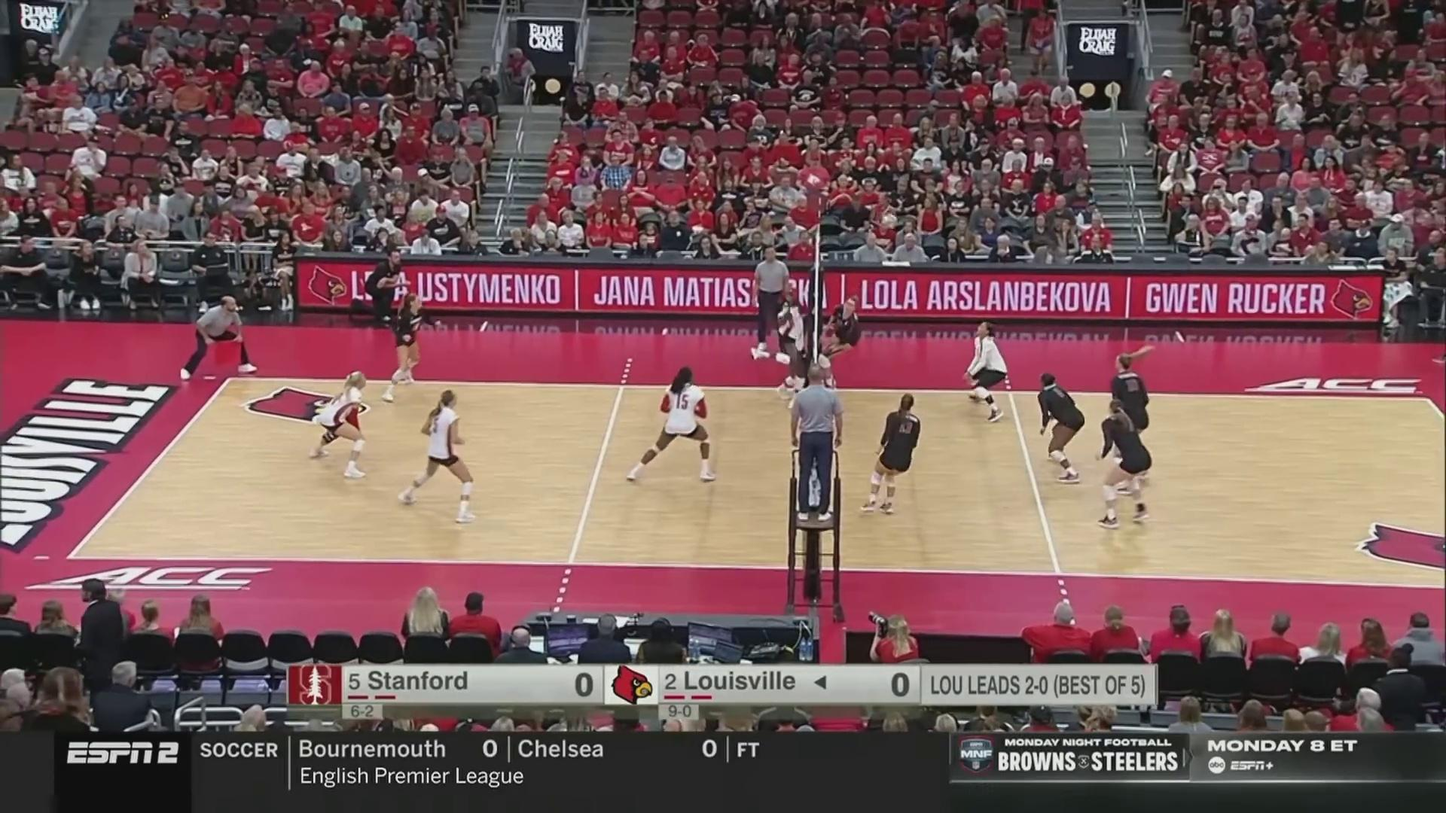player: (398, 389, 483, 522), (624, 369, 717, 483), (862, 393, 925, 516), (1096, 401, 1155, 531), (305, 371, 375, 477), (1105, 349, 1152, 491), (1035, 374, 1088, 487), (960, 320, 1013, 425), (752, 298, 806, 399), (385, 290, 434, 399), (822, 292, 863, 392), (784, 296, 819, 412)
refree: (784, 365, 844, 519), (180, 297, 257, 382), (755, 245, 791, 365)
